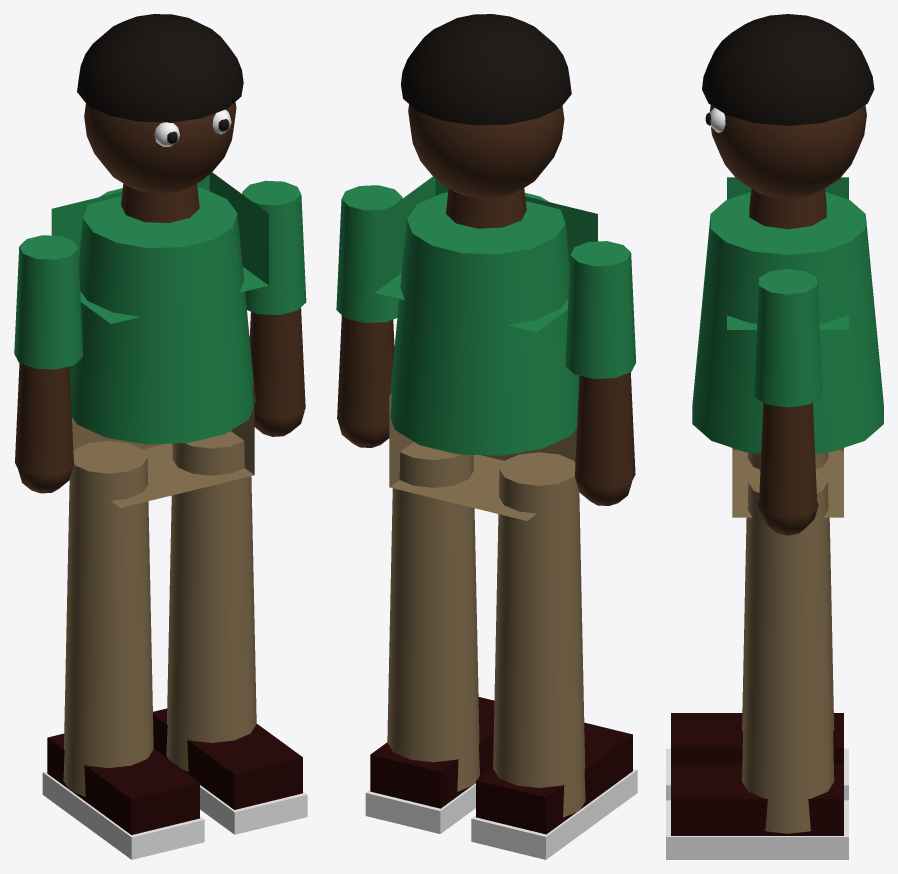
The model's file is npc_basic_01.glb.
3 renders of one model, left to right at view 1: azimuth 30°, elevation 25°; view 2: azimuth 150°, elevation 25°; view 3: azimuth 270°, elevation 25°, orthographic. The views are drawn at different scales.
Visible parts, largest first — view 1: npc_basic_01; view 2: npc_basic_01; view 3: npc_basic_01.
Boxes of the visible parts, left/top/right/bottom form: npc_basic_01: left=14, top=14, right=307, bottom=859; npc_basic_01: left=336, top=14, right=637, bottom=859; npc_basic_01: left=666, top=14, right=883, bottom=859.
Bounding box in the file's own units: 0.66 × 1.72 × 0.4284.
